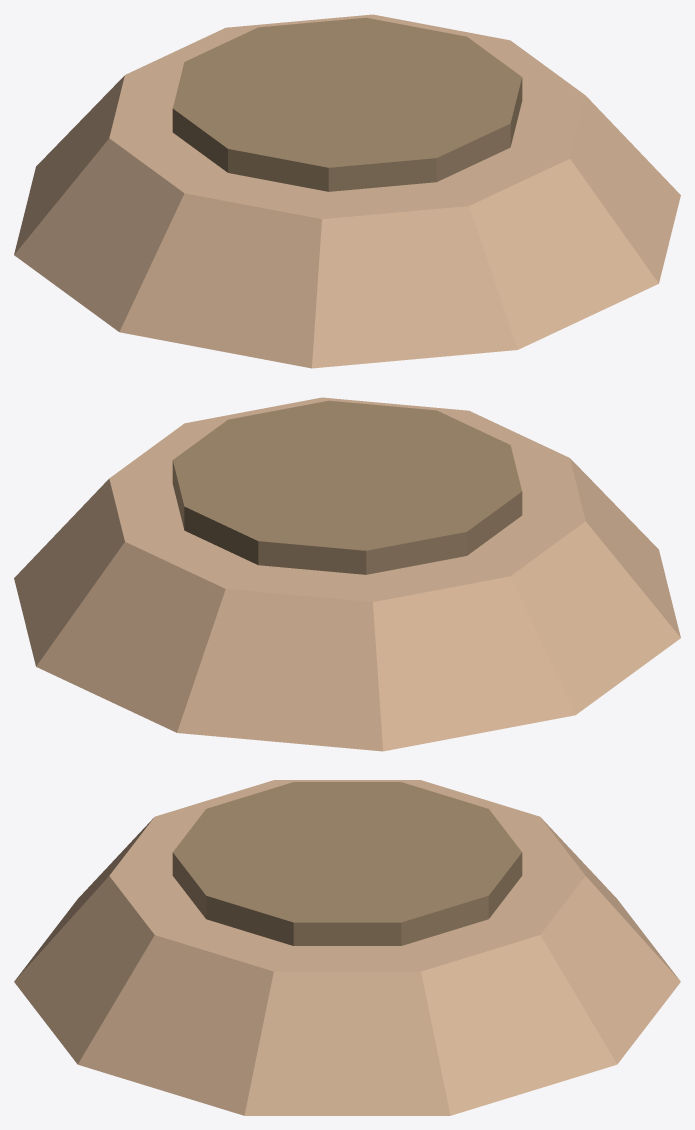
File: building_bloomery_foundation.glb
3 views of the same model, one above another, from view 1: azimuth 30°, elevation 25°; view 2: azimuth 150°, elevation 25°; view 3: azimuth 270°, elevation 25° (orthographic). The views are drawn at different scales.
Visible parts, largest first — view 1: building_bloomery_foundation; view 2: building_bloomery_foundation; view 3: building_bloomery_foundation.
Boxes of the visible parts, bbox=[...] form: building_bloomery_foundation: bbox=[14, 14, 680, 368]; building_bloomery_foundation: bbox=[14, 397, 680, 751]; building_bloomery_foundation: bbox=[14, 780, 680, 1115].
Size of the model in its own units: 0.7989 by 0.18 by 0.84.
